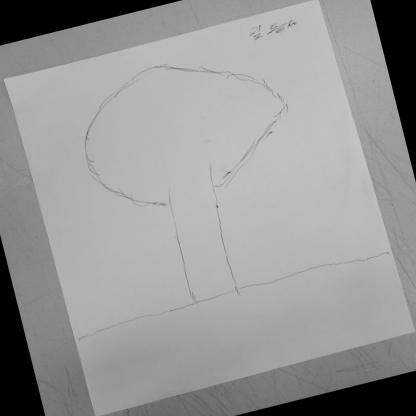crown_mushroom: (63, 36, 306, 219)
root_none: (168, 271, 258, 320)
trunk_straight: (158, 192, 239, 282)
